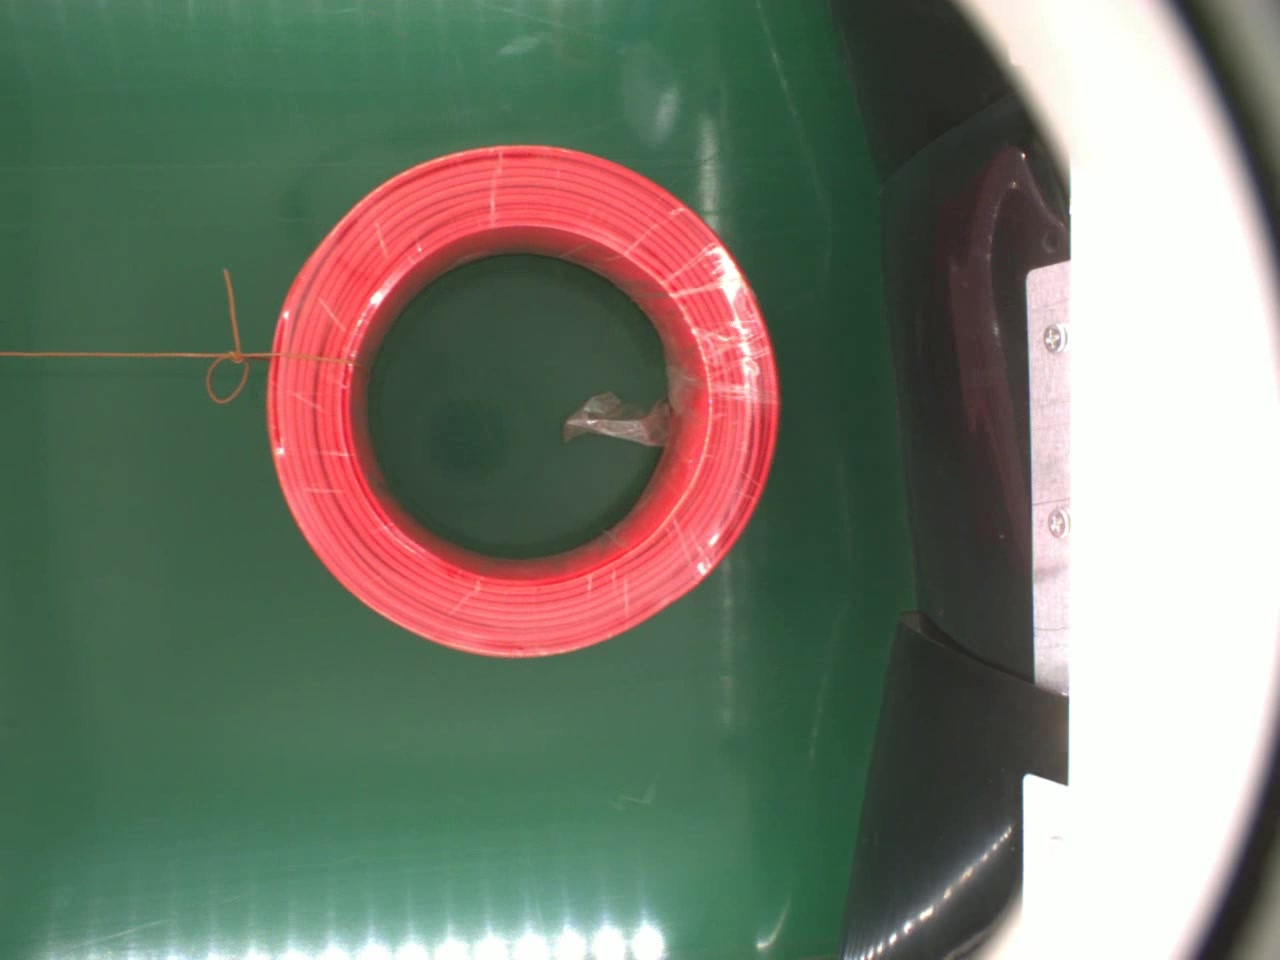red: (253, 138, 800, 676)
